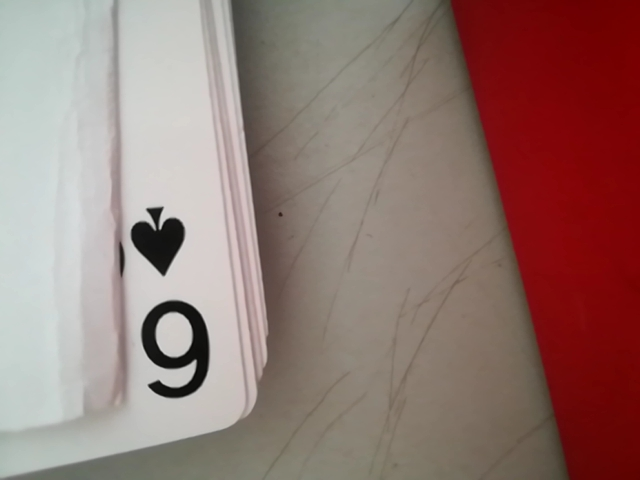ht 6: (100, 179, 234, 428)
